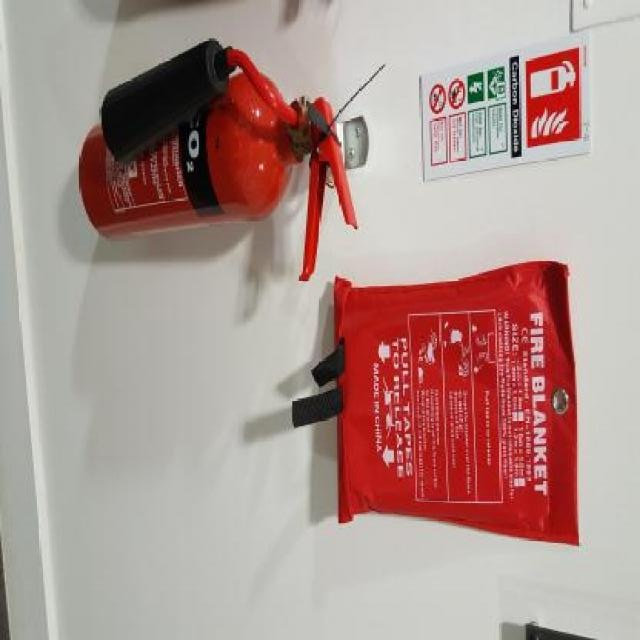fire extinguisher: (78, 40, 357, 282)
